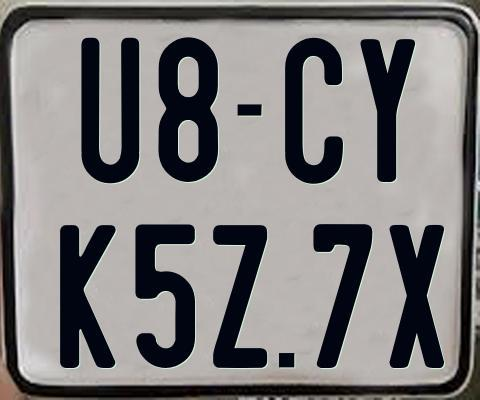5: (132, 221, 193, 371)
7: (312, 222, 373, 368)
8: (157, 34, 219, 179)
C: (282, 37, 342, 187)
K: (59, 224, 117, 368)
U: (79, 35, 138, 184)
X: (387, 223, 445, 371)
Y: (360, 37, 418, 183)
Z: (210, 223, 265, 369)
